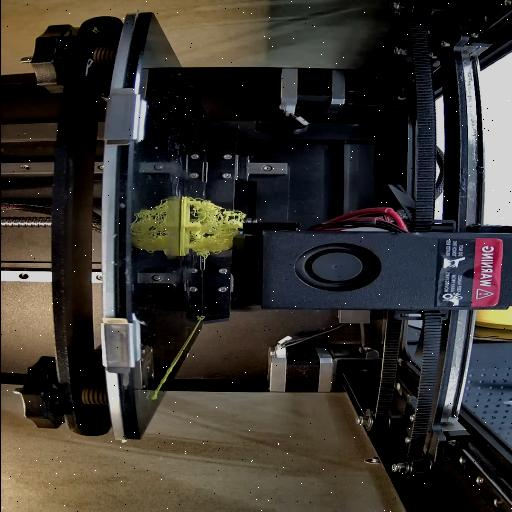spaghetti: (195, 201, 243, 256)
